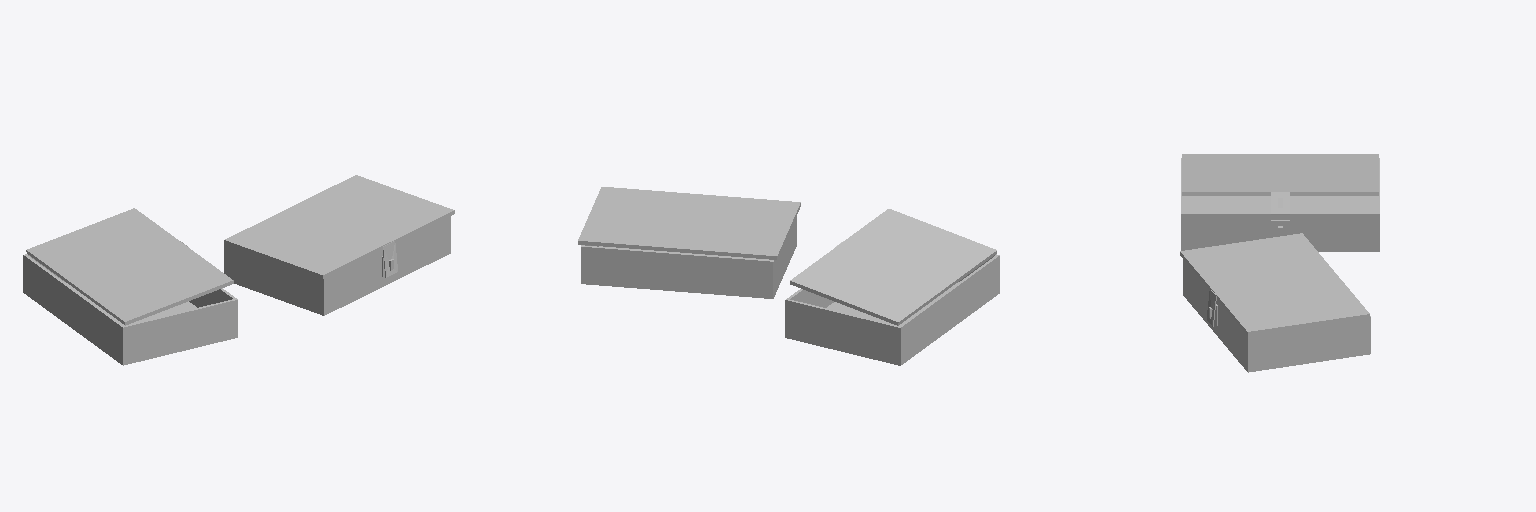
The model's file is uploads_files_3002707_tool+boxes.obj.
3 views of the same model, side by side, from view 1: azimuth 30°, elevation 25°; view 2: azimuth 150°, elevation 25°; view 3: azimuth 270°, elevation 25° (orthographic).
Parts seen in each view (by area): view 1: Null_Mesh; view 2: Null_Mesh; view 3: Null_Mesh.
Part boxes in pixels (x1,y1,x2,y2): Null_Mesh: (23,175,454,365); Null_Mesh: (578,187,999,365); Null_Mesh: (1180,154,1379,372).
Bounding box in the file's own units: 4.07 × 0.6215 × 1.93.